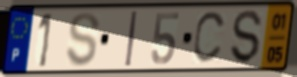1: (36, 12, 54, 69)
5: (149, 10, 181, 67)
C: (191, 9, 229, 66)
I: (123, 9, 139, 68)
S: (64, 11, 102, 69), (230, 9, 264, 67)
